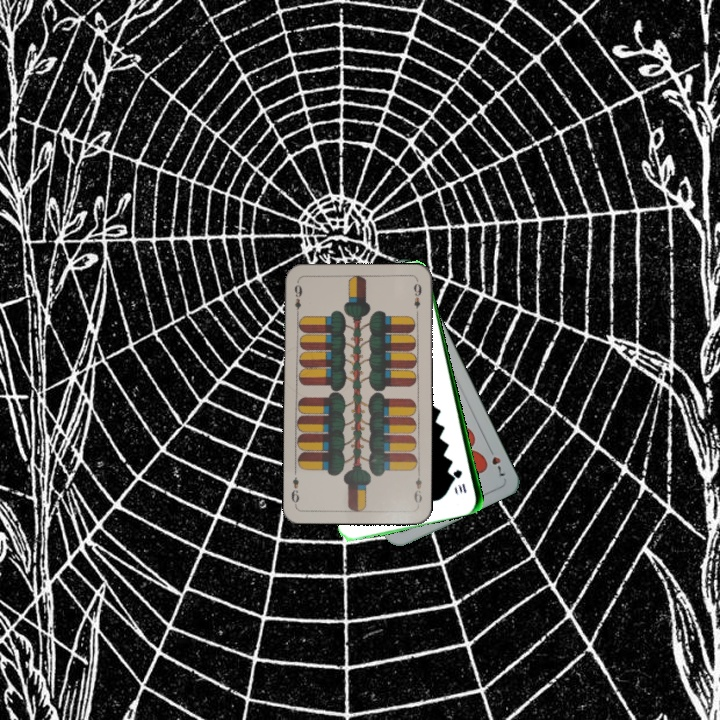E9: (290, 281, 305, 319), (410, 467, 424, 505)
G10: (451, 465, 469, 496)
H7: (484, 442, 508, 480)
